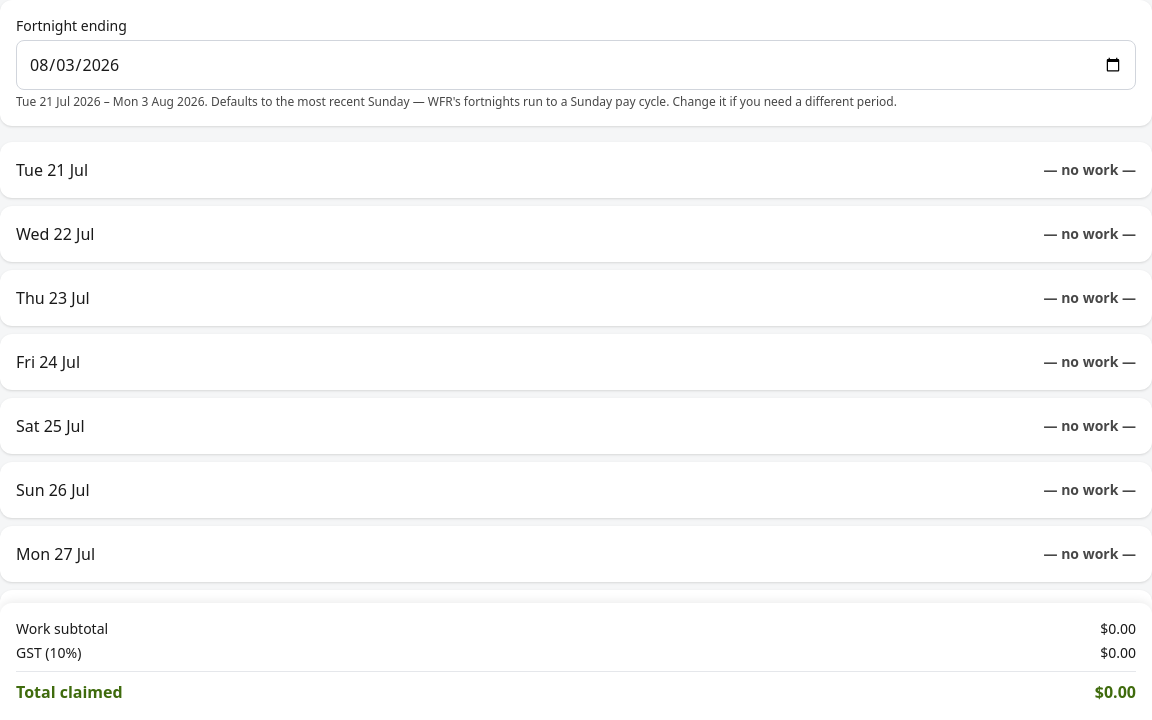
it: FortnightlyForm submission outcome › replaces the form with a success confirmation after a successful submit, rather than resetting to a live form
Click the text "Tue 21 Jul" at (52, 170), box [16,158,88,182]
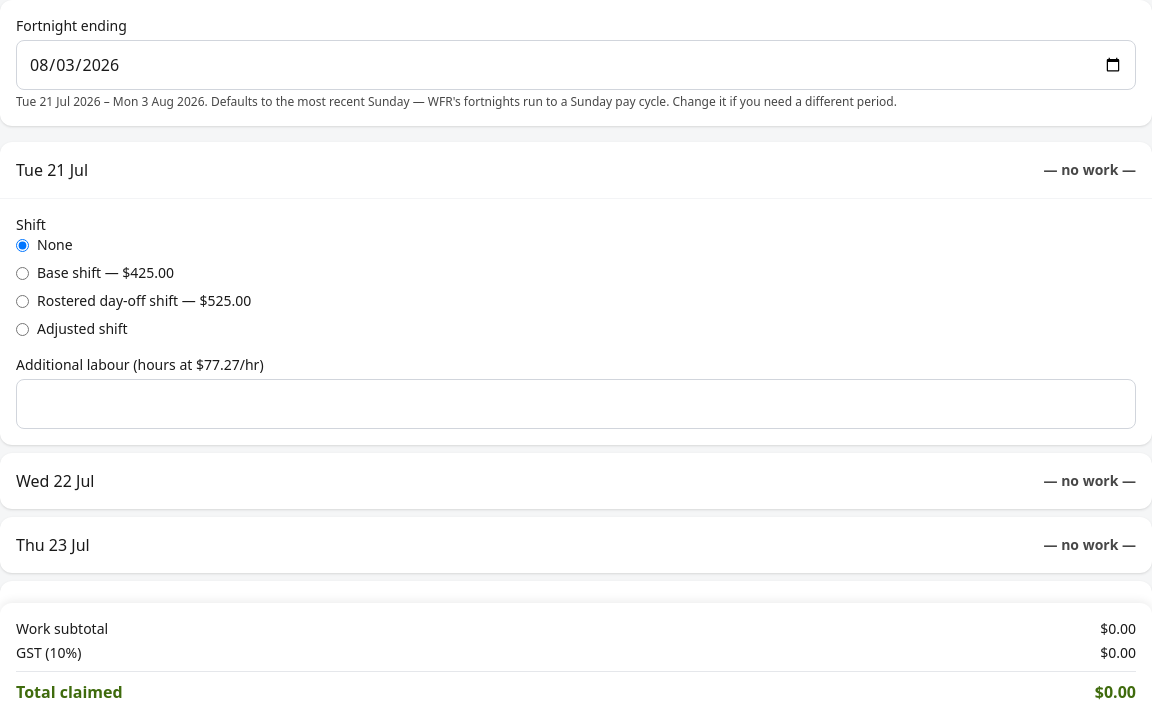
Click the radio button labelled "Base shift" at (22, 273), box [16,266,29,280]
(page scrolled)
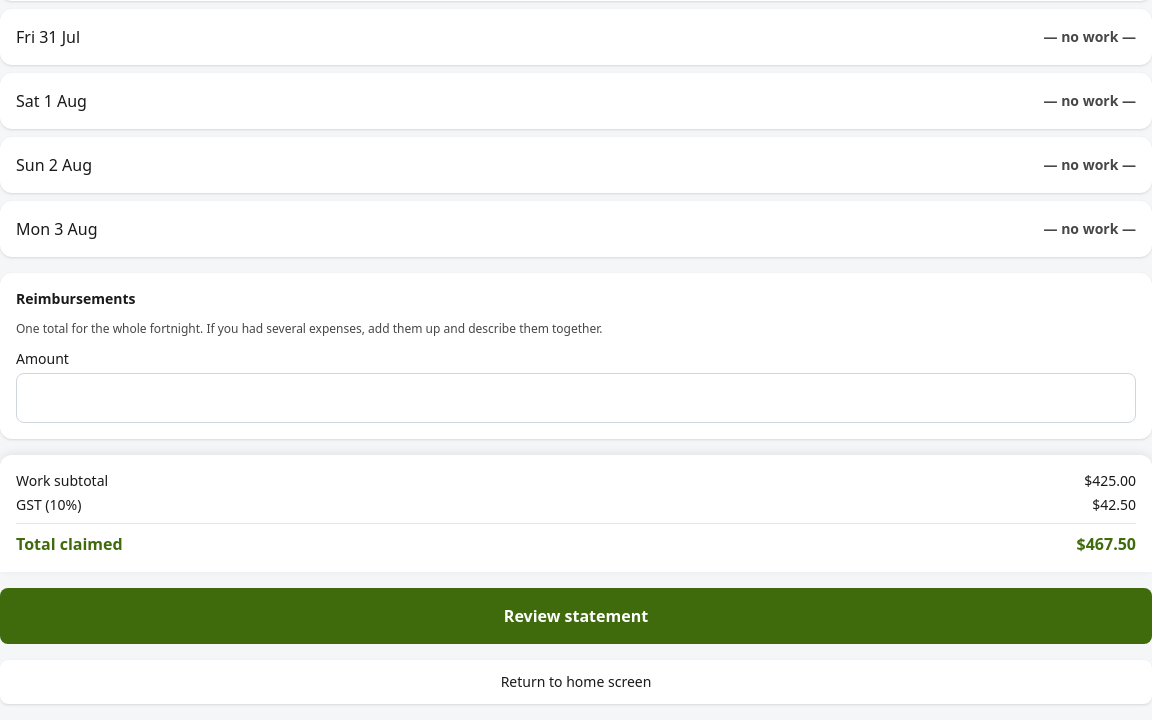
Click the button "Review statement" at (576, 616), box [0,588,1151,644]
(page scrolled)
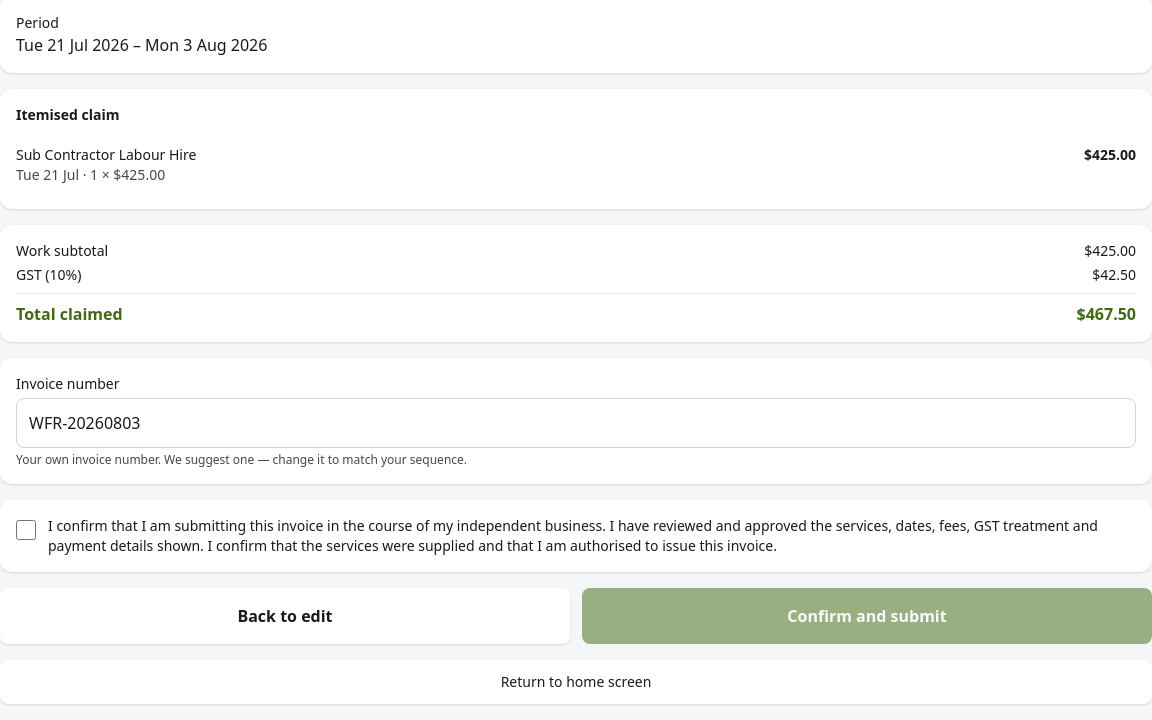
Click the checkbox at (26, 530), box [16,520,36,540]
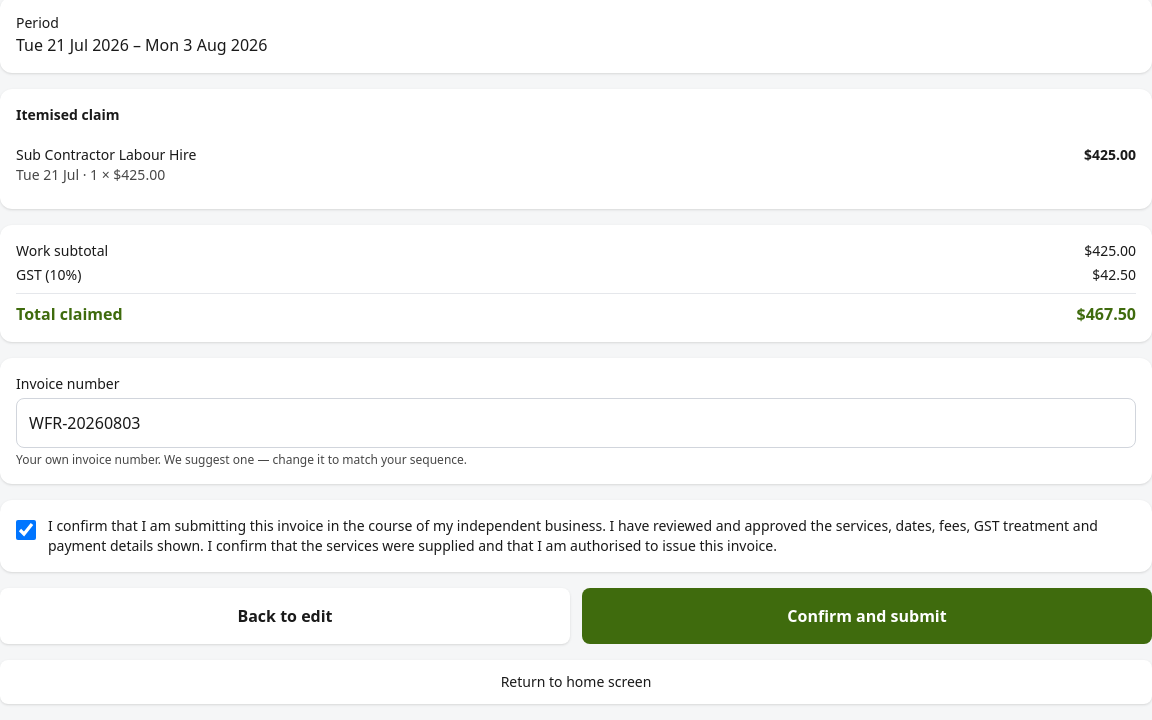
Click the button "Confirm and submit" at (867, 616), box [582,588,1151,644]
(page scrolled)
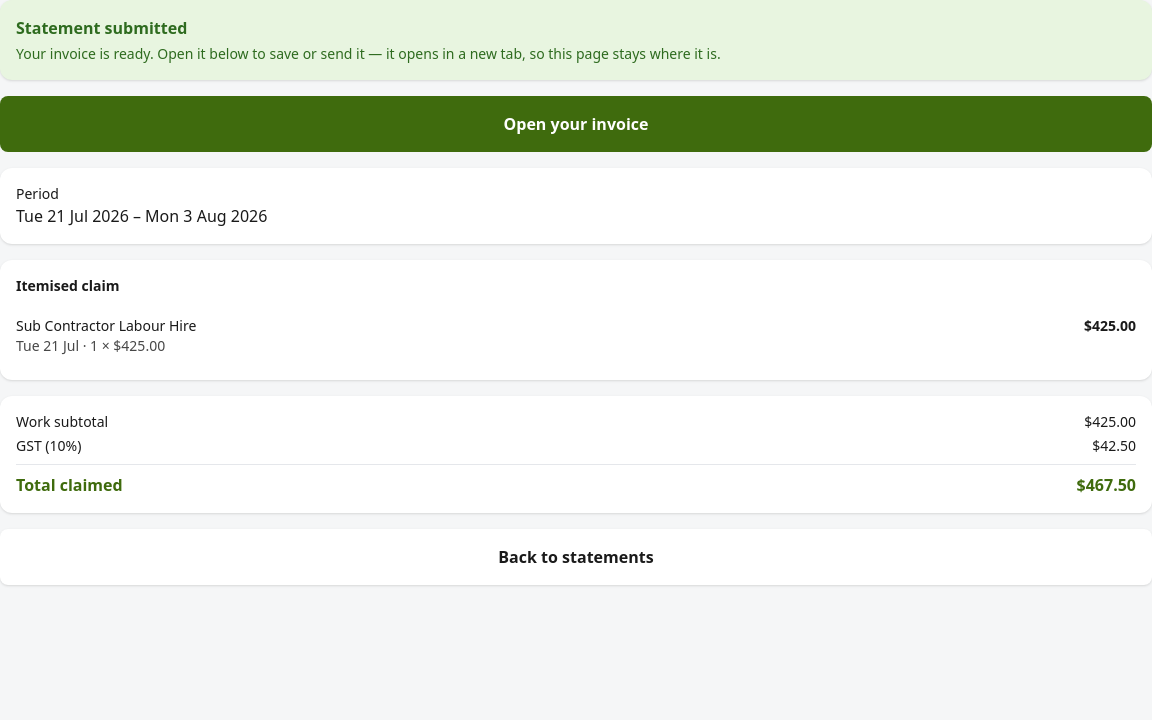
Expected: the button "Review statement" is not shown
Expected: the text "Sub Contractor Labour Hire" is shown, [16,316,196,336]
Expected: the text "Statement submitted" is shown, [16,17,187,39]
